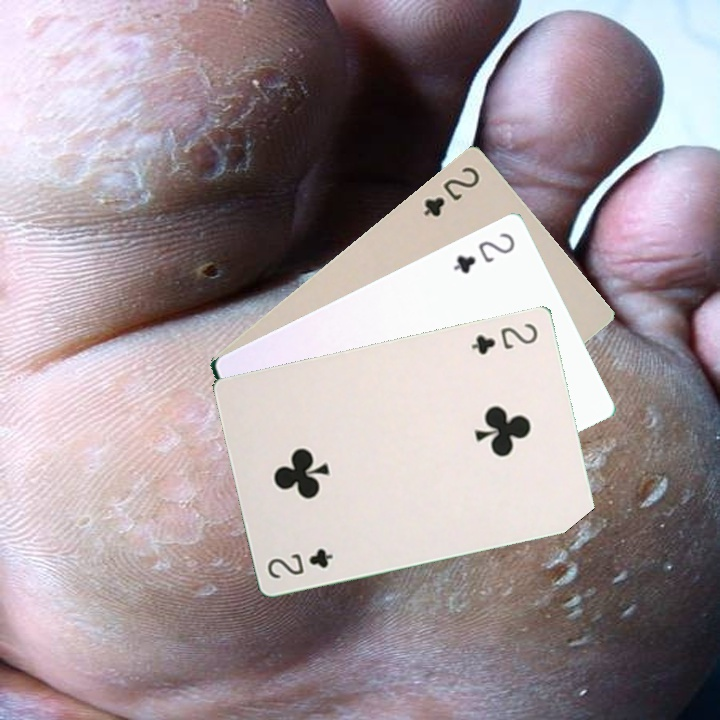2c: (419, 162, 483, 220), (449, 228, 518, 277), (467, 319, 541, 357), (263, 544, 336, 582)
